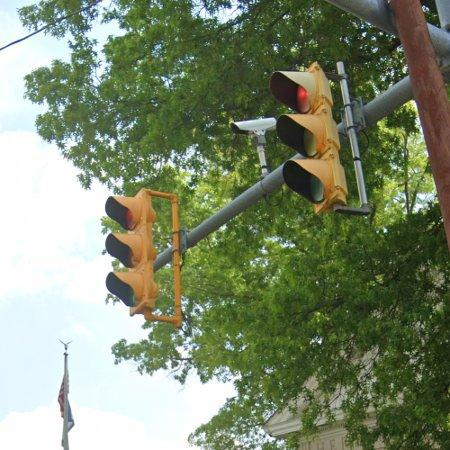traffic lights: (270, 64, 355, 205), (103, 181, 169, 322)
